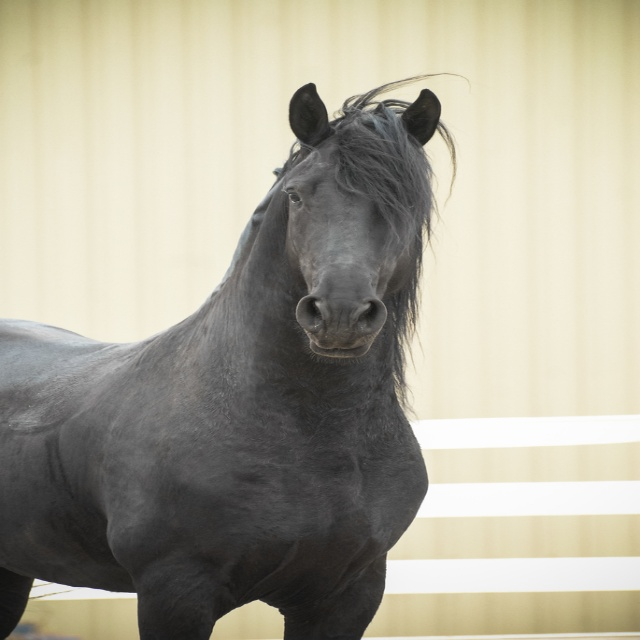Horse: (0, 70, 476, 640)
